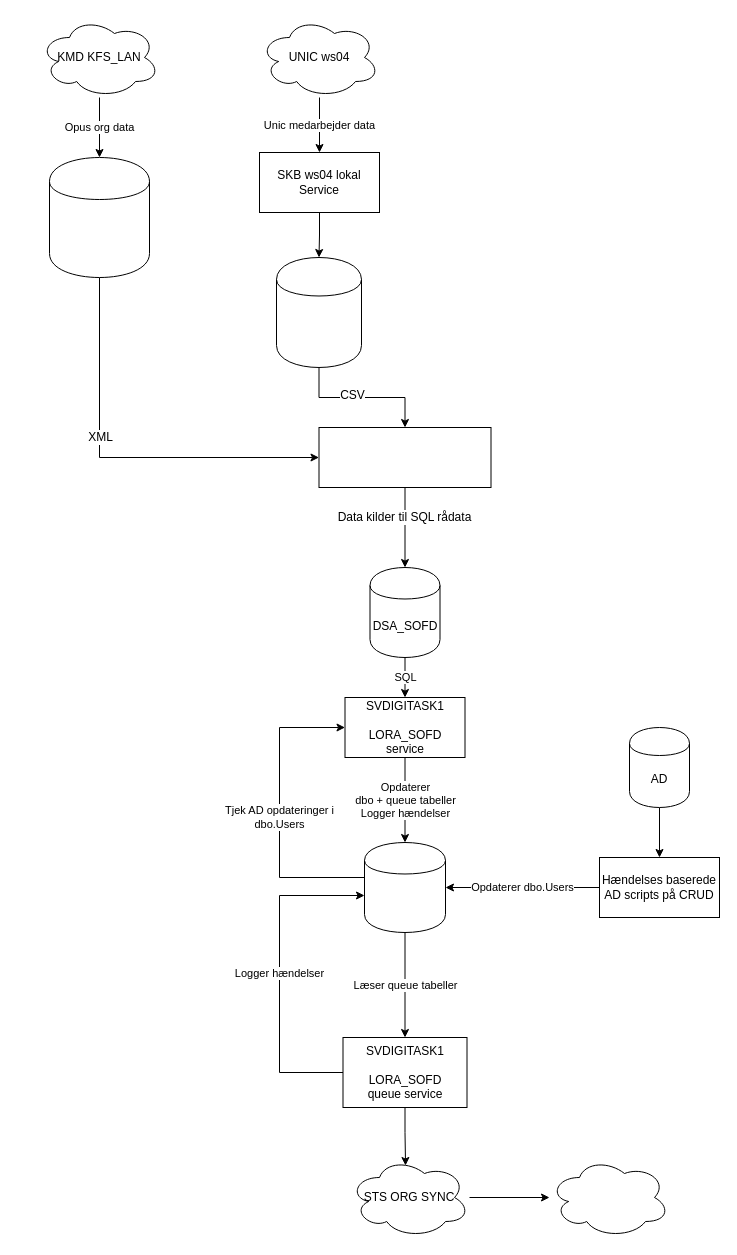
This 737x1255 diagram has some shape labels left out. Each missing label, with the centre of its shape:
\\svkfs1\fra_KMD\Medarbejder\ Deltafil: the point at 99,217
LORA_SOFD: the point at 405,887
STS ORG: the point at 609,1197
SVSIS1 c:\SSIS\unic Deltafil: the point at 319,312
SVSIS1 DSA_SOFD_SSIS_service: the point at 404,457
